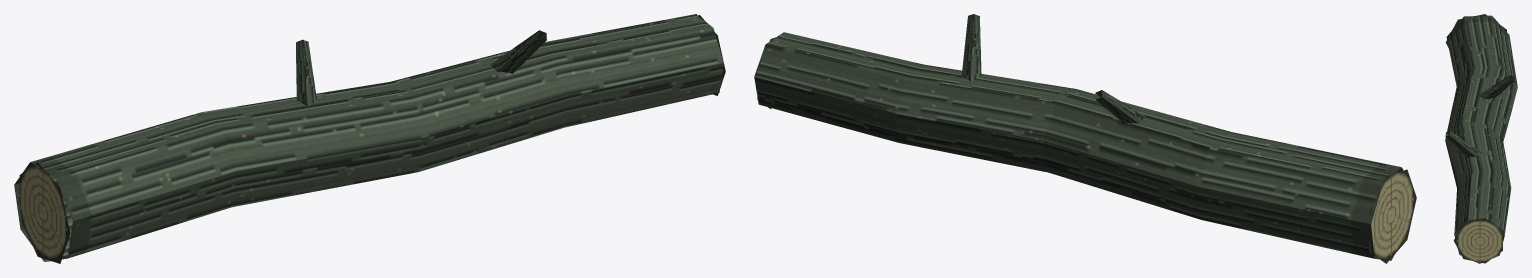
Rendered from SM_Forest_Log_Fallen_600x90x120.fbx.
The picture shows the model from 3 angles, left to right: view 1: azimuth 30°, elevation 25°; view 2: azimuth 150°, elevation 25°; view 3: azimuth 270°, elevation 25°; orthographic projection. The views are drawn at different scales.
Parts seen in each view (by area): view 1: SM_Forest_Log_Fallen_600x90x120.005; view 2: SM_Forest_Log_Fallen_600x90x120.005; view 3: SM_Forest_Log_Fallen_600x90x120.005.
Boxes of the visible parts, x1,y1,x2,y2 form: SM_Forest_Log_Fallen_600x90x120.005: (14,14,725,263); SM_Forest_Log_Fallen_600x90x120.005: (754,14,1416,263); SM_Forest_Log_Fallen_600x90x120.005: (1445,14,1517,263).
Size of the model in its own units: 6.05 by 1.16 by 0.9438.
